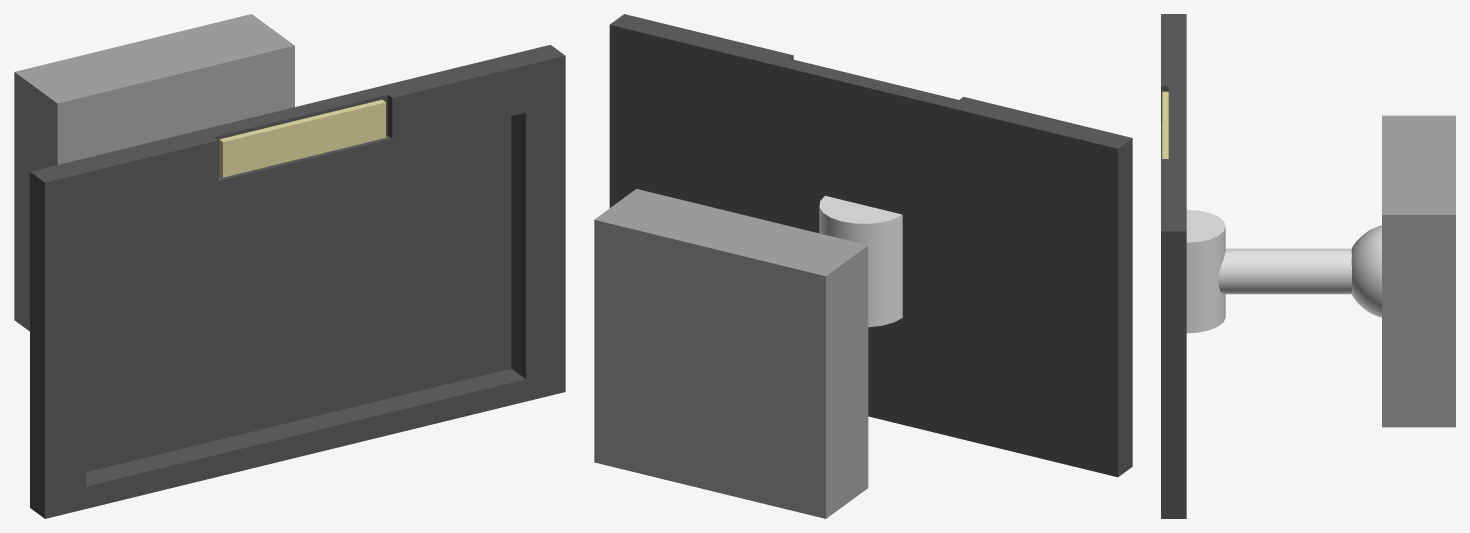
Rendered from TVBIG.fbx.
The picture shows the model from 3 angles, left to right: view 1: azimuth 30°, elevation 25°; view 2: azimuth 150°, elevation 25°; view 3: azimuth 270°, elevation 25°; orthographic projection. The views are drawn at different scales.
Parts seen in each view (by area): view 1: polySurface4, pCube3, pasted__pasted__pCube1; view 2: polySurface4, pCube3, polySurface3; view 3: pCube3, polySurface4, pCylinder2, polySurface3, pasted__pasted__pCube1.
Part boxes in pixels (x1,y1,x2,y2): polySurface4: [30, 45, 565, 518]; pCube3: [14, 14, 294, 331]; pasted__pasted__pCube1: [219, 99, 385, 177]; polySurface4: [609, 14, 1132, 477]; pCube3: [594, 189, 868, 518]; polySurface3: [819, 195, 902, 327]; pCube3: [1382, 115, 1455, 427]; polySurface4: [1161, 14, 1186, 518]; pCylinder2: [1218, 225, 1381, 317]; polySurface3: [1186, 209, 1225, 333]; pasted__pasted__pCube1: [1162, 91, 1168, 158].
Bounding box in the file's own units: 22.42 × 13.84 × 12.86.
